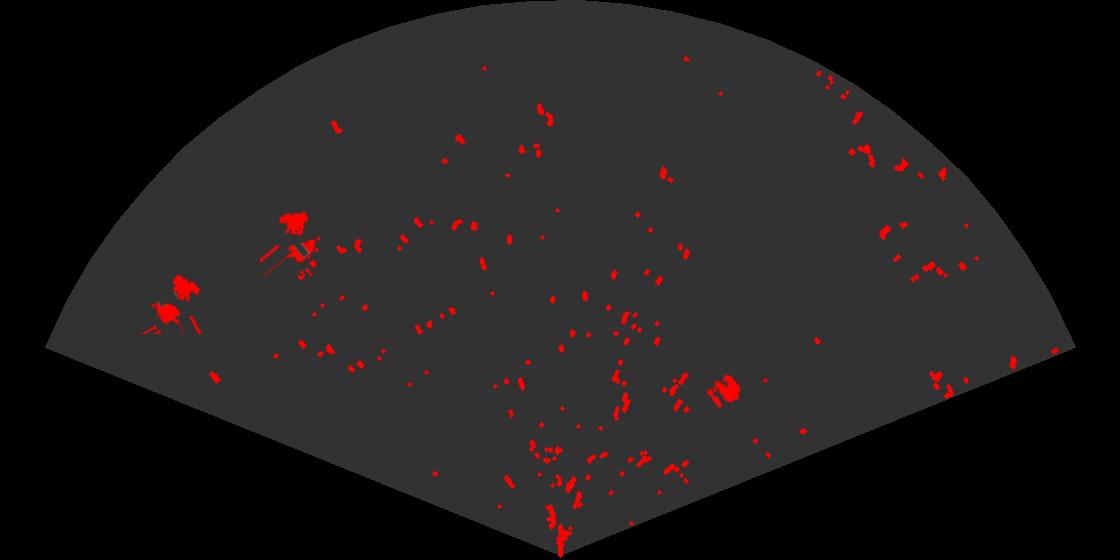ball: (705, 373, 742, 409)
cage: (260, 210, 322, 276), (139, 273, 204, 334)
